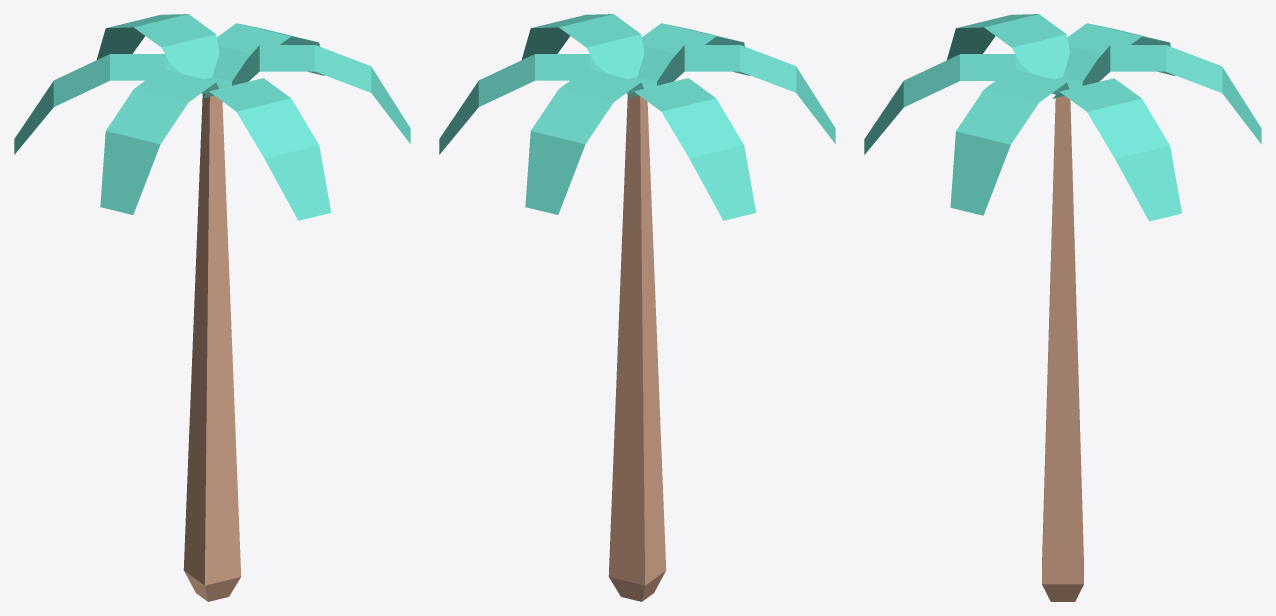
File: tree_palm.glb
3 renders of one model, left to right at view 1: azimuth 30°, elevation 25°; view 2: azimuth 150°, elevation 25°; view 3: azimuth 270°, elevation 25°, orthographic.
Visible parts, largest first — view 1: tree_palm; view 2: tree_palm; view 3: tree_palm.
Part boxes in pixels (x1=…): tree_palm: x1=14, y1=14, x2=410, y2=601; tree_palm: x1=439, y1=14, x2=835, y2=601; tree_palm: x1=864, y1=14, x2=1261, y2=601.
Bounding box in the file's own units: 0.9355 × 1.51 × 1.01.
